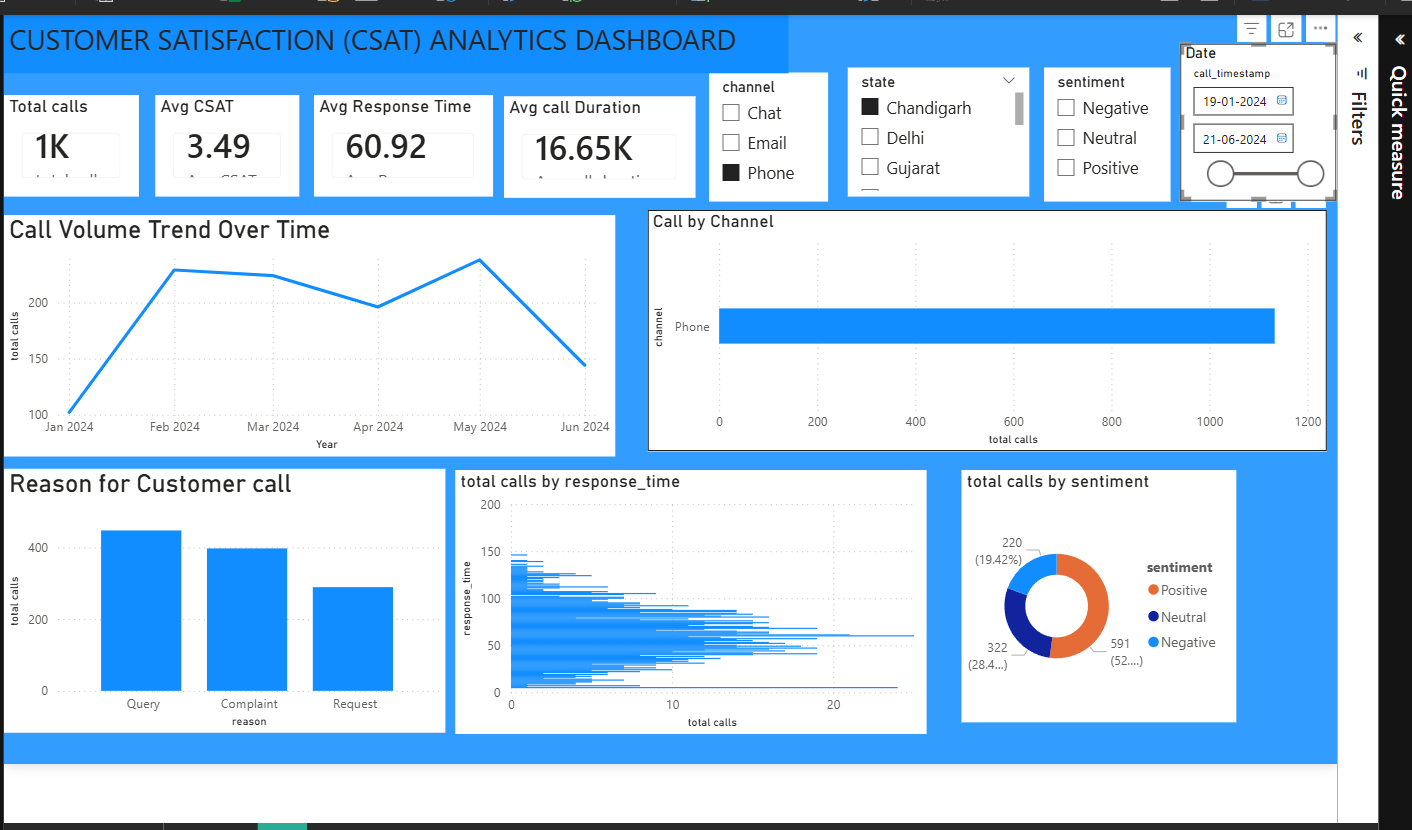

What the dashboard file says about the page in this screenshot:
{"tool":"powerbi","page":{"name":"Page 1","canvas":[1280,720],"ordinal":0},"visuals":[{"type":"lineChart","title":"Call Volume Trend Over Time ","fields":{"Y":["customer_calls_full_dataset.total calls"],"Category":["customer_calls_full_dataset.call_timestamp.Variation.Date Hierarchy.Year","customer_calls_full_dataset.call_timestamp.Variation.Date Hierarchy.Month"]},"box":[0,192.1,587.2,231.7],"z":0},{"type":"clusteredBarChart","title":"Call by Channel","fields":{"Category":["customer_calls_full_dataset.channel"],"Y":["customer_calls_full_dataset.total calls"]},"box":[618.4,187.3,652,231.7],"z":1000},{"type":"clusteredColumnChart","title":"Reason for Customer call","fields":{"Y":["customer_calls_full_dataset.total calls"],"Category":["customer_calls_full_dataset.reason"]},"box":[0,435.9,423.9,253.4],"z":2000},{"type":"clusteredBarChart","fields":{"Category":["customer_calls_full_dataset.response_time"],"Y":["customer_calls_full_dataset.total calls"]},"box":[433.5,437.1,452.7,253.4],"z":3000},{"type":"cardVisual","title":"Total calls","fields":{"Data":["customer_calls_full_dataset.total calls"]},"box":[0,76.8,129.7,97.3],"z":4000},{"type":"cardVisual","title":"Avg CSAT","fields":{"Data":["customer_calls_full_dataset.Avg CSAT"]},"box":[145.3,76.8,138.1,97.3],"z":5000},{"type":"cardVisual","title":"Avg Response Time","fields":{"Data":["customer_calls_full_dataset.Avg Response Time"]},"box":[293,77.9,172.1,97.7],"z":6000},{"type":"cardVisual","title":"Avg call Duration","fields":{"Data":["customer_calls_full_dataset.Avg call duration"]},"box":[480.3,78,183.7,97.3],"z":7000},{"type":"slicer","fields":{"Values":["customer_calls_full_dataset.channel"]},"box":[677.2,55.2,114.1,123.7],"z":8000},{"type":"slicer","fields":{"Values":["customer_calls_full_dataset.state"]},"box":[810.5,50.4,174.1,123.7],"z":9000},{"type":"slicer","fields":{"Values":["customer_calls_full_dataset.sentiment"]},"box":[999,50.4,121.3,128.5],"z":10000},{"type":"slicer","title":"Date","fields":{"Values":["customer_calls_full_dataset.call_timestamp"]},"box":[1129.9,27.6,150.1,151.3],"z":11000},{"type":"textbox","box":[0,0,753.5,55.8],"z":12000},{"type":"donutChart","fields":{"Category":["customer_calls_full_dataset.sentiment"],"Y":["customer_calls_full_dataset.total calls"]},"box":[919.8,437.1,264.2,242.6],"z":13000}]}

Visuals, with their boxes in screenshot pixels (x1, y1, x2, y2):
"Call Volume Trend Over Time " lineChart: x1=0, y1=213, x2=612, y2=456
"Call by Channel" clusteredBarChart: x1=645, y1=208, x2=1329, y2=451
"Reason for Customer call" clusteredColumnChart: x1=0, y1=468, x2=441, y2=734
clusteredBarChart - customer_calls_full_dataset.response_time x customer_calls_full_dataset.total calls: x1=451, y1=470, x2=926, y2=736
"Total calls" cardVisual: x1=0, y1=92, x2=132, y2=194
"Avg CSAT" cardVisual: x1=149, y1=92, x2=294, y2=194
"Avg Response Time" cardVisual: x1=304, y1=93, x2=484, y2=195
"Avg call Duration" cardVisual: x1=500, y1=93, x2=693, y2=195
slicer - customer_calls_full_dataset.channel: x1=707, y1=69, x2=827, y2=199
slicer - customer_calls_full_dataset.state: x1=847, y1=64, x2=1029, y2=194
slicer - customer_calls_full_dataset.sentiment: x1=1045, y1=64, x2=1172, y2=199
"Date" slicer: x1=1182, y1=40, x2=1339, y2=199
textbox: x1=0, y1=11, x2=787, y2=70
donutChart - customer_calls_full_dataset.sentiment x customer_calls_full_dataset.total calls: x1=961, y1=470, x2=1239, y2=724
